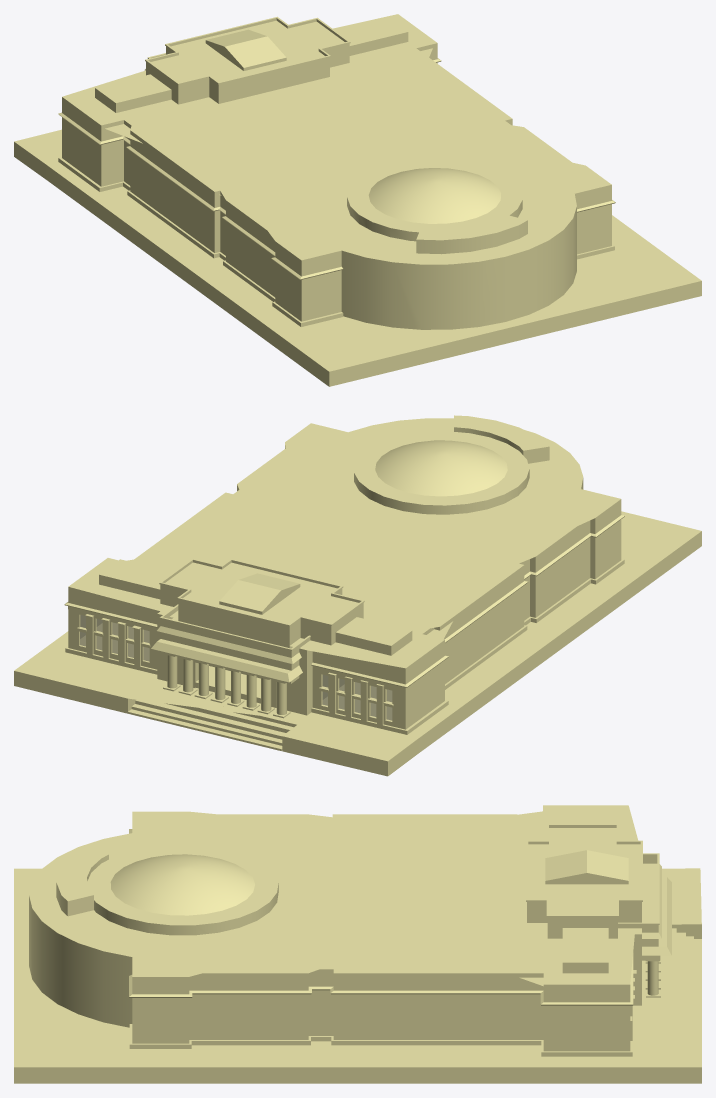
Rendered from museummodel.fbx.
3 renders of one model, top to bottom at view 1: azimuth 30°, elevation 25°; view 2: azimuth 150°, elevation 25°; view 3: azimuth 270°, elevation 25°, orthographic. The views are drawn at different scales.
Parts seen in each view (by area): view 1: Model; view 2: Model; view 3: Model.
Boxes of the visible parts, box(x1,y1,x2,y2) form: Model: box(14, 14, 701, 386); Model: box(14, 415, 701, 776); Model: box(14, 805, 701, 1083).
Bounding box in the file's own units: 5.93 × 1.66 × 8.67.
